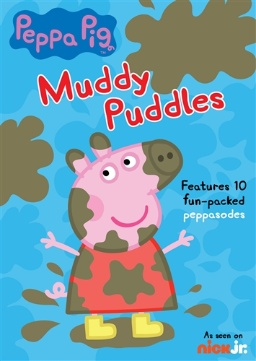Peppa: (38, 131, 195, 348)
